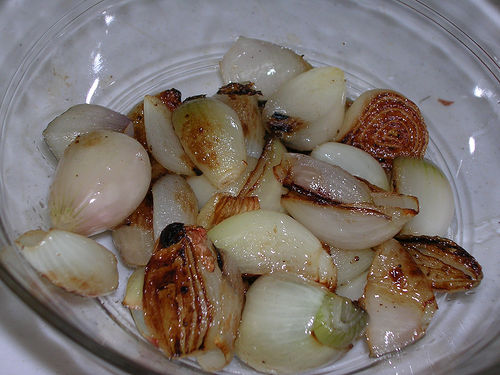onion: (231, 271, 370, 374), (45, 128, 154, 239), (208, 208, 341, 292), (169, 94, 249, 196), (261, 68, 345, 150)
